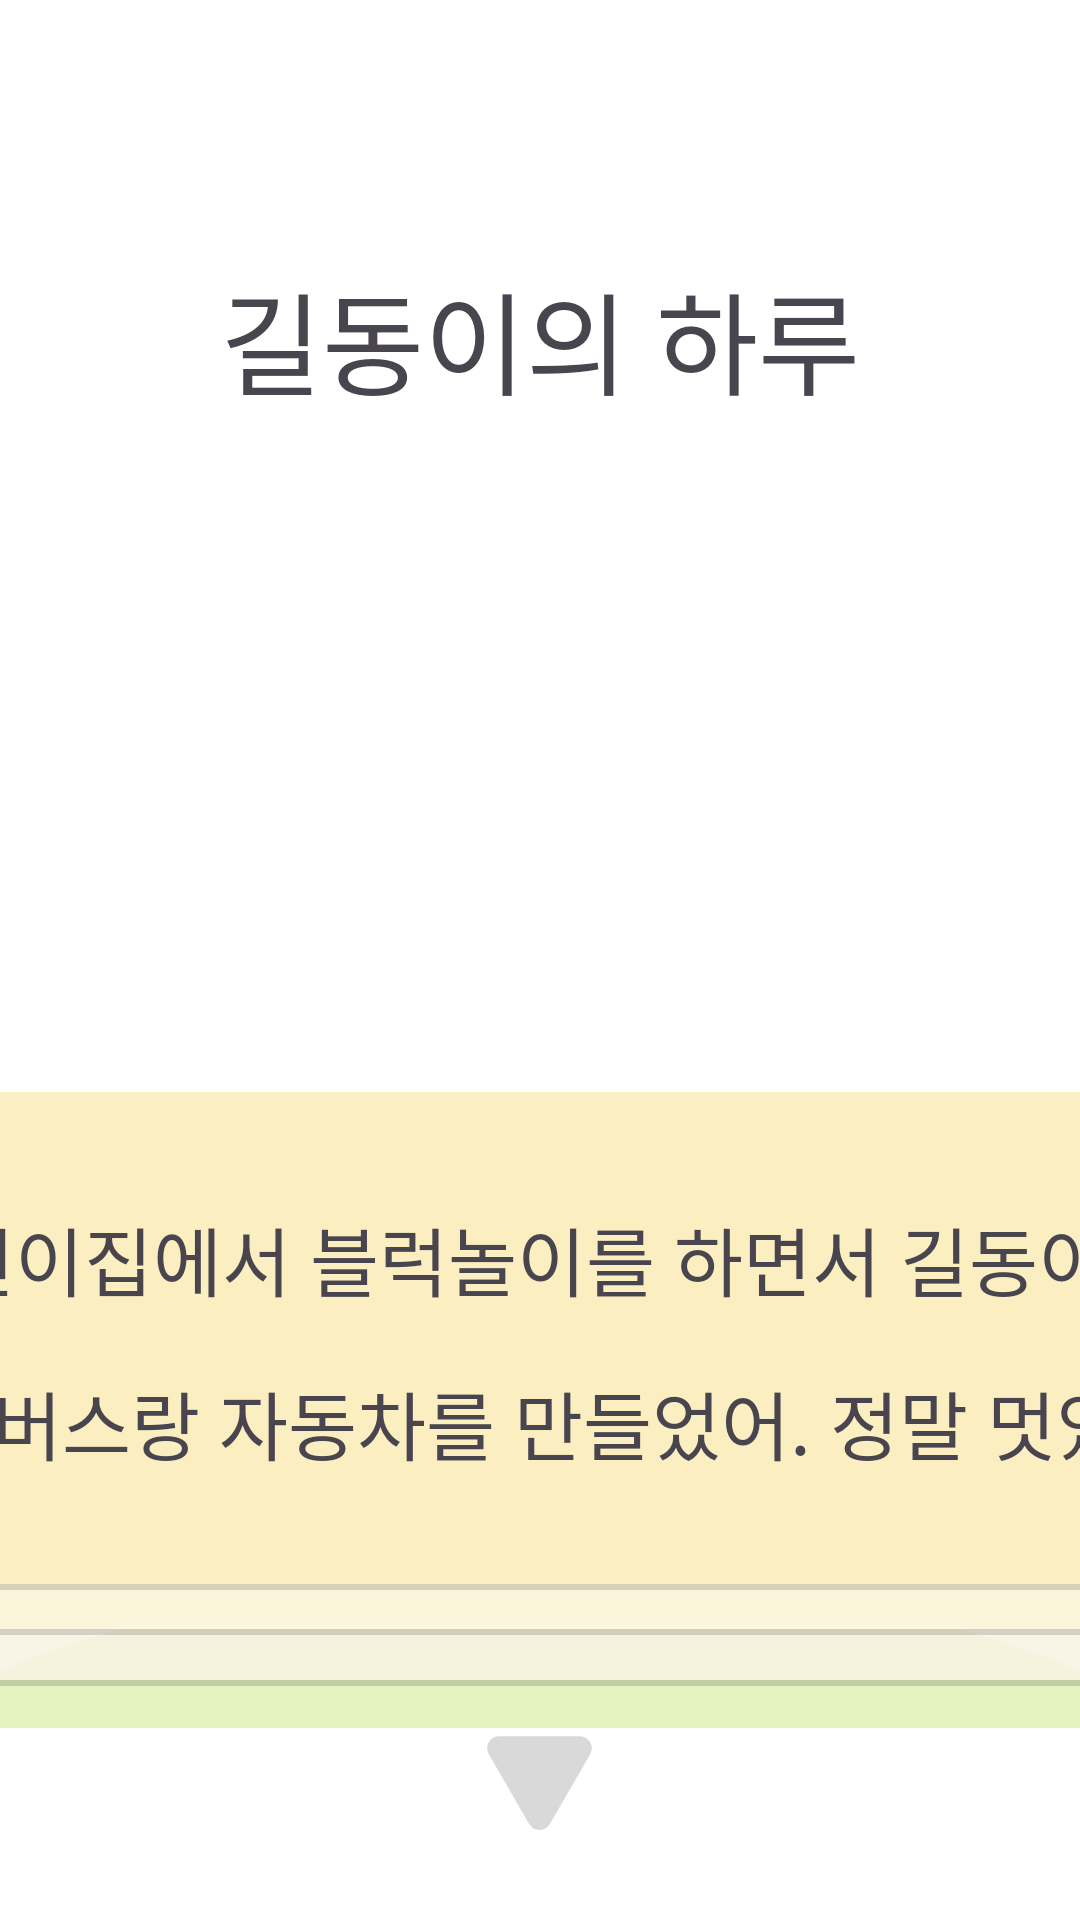

Where to tap for icons on this 1080×1920 app screen, as (x,y):
next: (539,1783)
